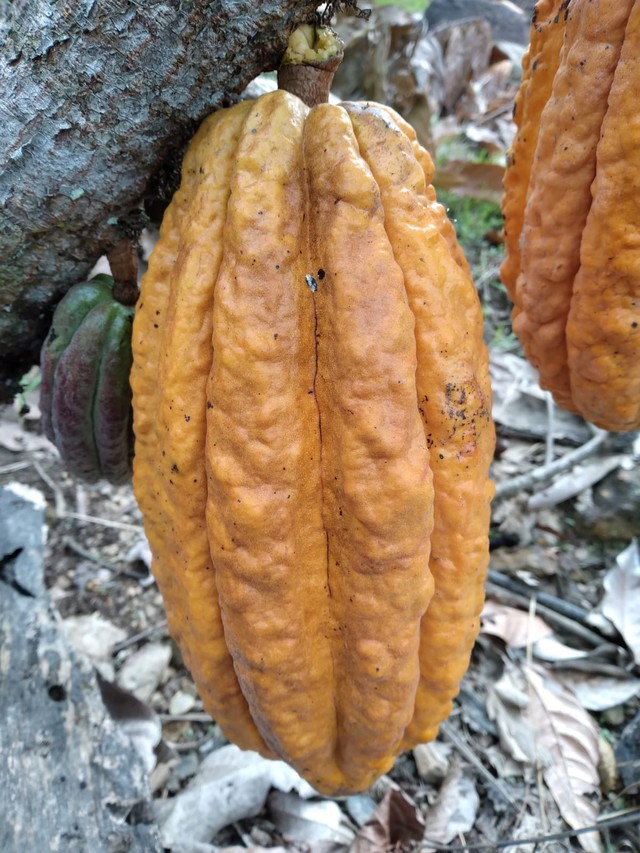Health: (124, 86, 507, 803)
